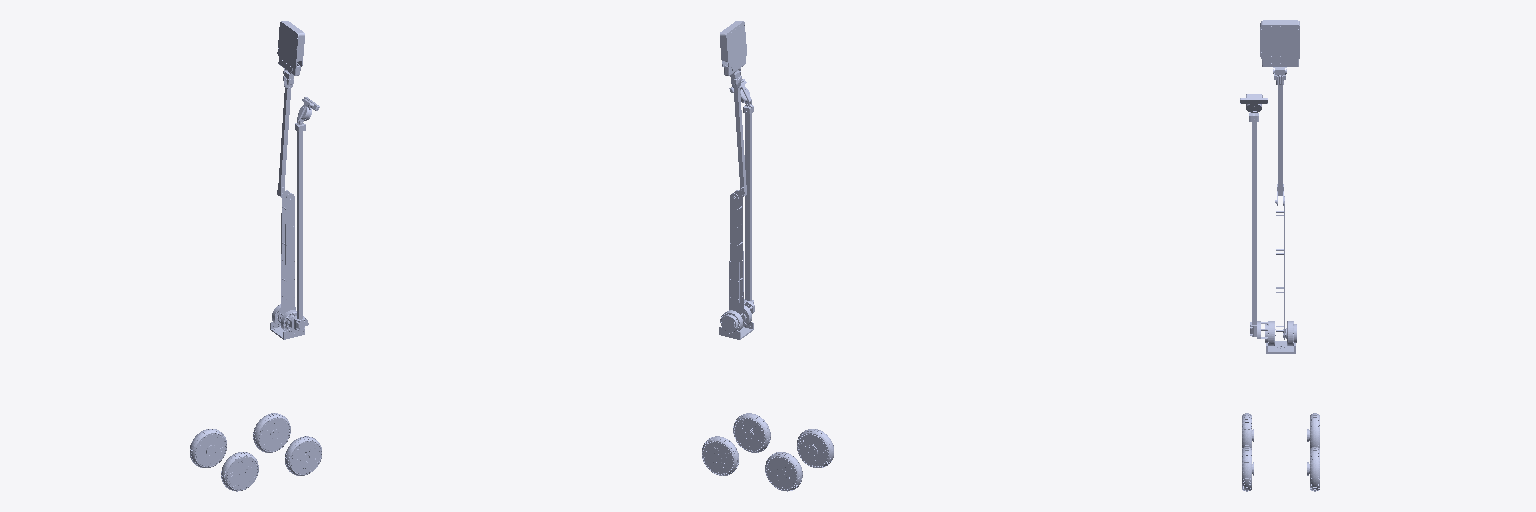
The robot description file, URDF, robot "Covid_Bot_URDF":
<?xml version="1.0" encoding="utf-8"?>
<!-- This URDF was automatically created by SolidWorks to URDF Exporter! Originally created by [author] ([email redacted]) 
     Commit Version: 1.5.1-0-g916b5db  Build Version: 1.5.7152.31018
     For more information, please see http://wiki.ros.org/sw_urdf_exporter -->
<robot
  name="Covid_Bot_URDF">
  <link
    name="base_link">
    <inertial>
      <origin
        xyz="0.059253 -3.5103E-05 0.27273"
        rpy="0 0 0" />
      <mass
        value="5.0138" />
      <inertia
        ixx="0.022066"
        ixy="-5.352E-07"
        ixz="-3.5279E-05"
        iyy="0.051738"
        iyz="2.1059E-07"
        izz="0.053855" />
    </inertial>
    <visual>
      <origin
        xyz="0 0 0"
        rpy="0 0 0" />
      <geometry>
        <mesh
          filename="meshes/base_link.STL" />
      </geometry>
      <material
        name="">
        <color
          rgba="1 1 1 1" />
      </material>
    </visual>
    <collision>
      <origin
        xyz="0 0 0"
        rpy="0 0 0" />
      <geometry>
        <mesh
          filename="meshes/base_link.STL" />
      </geometry>
    </collision>
  </link>
  <link
    name="Waist_Link">
    <inertial>
      <origin
        xyz="0.018764 -0.02698 0.23455"
        rpy="0 0 0" />
      <mass
        value="0.85886" />
      <inertia
        ixx="0.0075486"
        ixy="-8.8132E-05"
        ixz="-1.1514E-05"
        iyy="0.0076505"
        iyz="-6.4529E-06"
        izz="0.00051864" />
    </inertial>
    <visual>
      <origin
        xyz="0 0 0"
        rpy="0 0 0" />
      <geometry>
        <mesh
          filename="meshes/Waist_Link.STL" />
      </geometry>
      <material
        name="">
        <color
          rgba="0.79216 0.81961 0.93333 1" />
      </material>
    </visual>
    <collision>
      <origin
        xyz="0 0 0"
        rpy="0 0 0" />
      <geometry>
        <mesh
          filename="meshes/Waist_Link.STL" />
      </geometry>
    </collision>
  </link>
  <joint
    name="Waist_Joint"
    type="revolute">
    <origin
      xyz="0.14905 0 0.59309"
      rpy="0 0 -0.5236" />
    <parent
      link="base_link" />
    <child
      link="Waist_Link" />
    <axis
      xyz="0 0 -1" />
    <limit
      lower="-3.1416"
      upper="3.1416"
      effort="15"
      velocity="65" />
  </joint>
  <link
    name="Shoulder_Link">
    <inertial>
      <origin
        xyz="4.66842554336377E-08 0.265693440313095 -0.0148861722444303"
        rpy="0 0 0" />
      <mass
        value="0.167183733473788" />
      <inertia
        ixx="0.00432114063992436"
        ixy="4.30760476432212E-12"
        ixz="1.58852641360613E-15"
        iyy="2.81708148404114E-05"
        iyz="2.44707368818259E-16"
        izz="0.00434846549615947" />
    </inertial>
    <visual>
      <origin
        xyz="0 0 0"
        rpy="0 0 0" />
      <geometry>
        <mesh
          filename="meshes/Shoulder_Link.STL" />
      </geometry>
      <material
        name="">
        <color
          rgba="0.792156862745098 0.819607843137255 0.933333333333333 1" />
      </material>
    </visual>
    <collision>
      <origin
        xyz="0 0 0"
        rpy="0 0 0" />
      <geometry>
        <mesh
          filename="meshes/Shoulder_Link.STL" />
      </geometry>
    </collision>
  </link>
  <joint
    name="Shoulder_Joint"
    type="revolute">
    <origin
      xyz="0.0087383 -0.015135 0.064525"
      rpy="1.5708 0.00097668 0.5236" />
    <parent
      link="Waist_Link" />
    <child
      link="Shoulder_Link" />
    <axis
      xyz="0 0 1" />
    <limit
      lower="-1.5708"
      upper="1.5708"
      effort="15"
      velocity="65" />
  </joint>
  <link
    name="Elbow_Link">
    <inertial>
      <origin
        xyz="0.351846192147882 0.0339993945889256 -0.00950589374198291"
        rpy="0 0 0" />
      <mass
        value="0.120438255580755" />
      <inertia
        ixx="2.10110877179701E-05"
        ixy="-2.11476741427197E-06"
        ixz="-9.1744583661404E-09"
        iyy="0.00117217890712797"
        iyz="8.89017312883176E-11"
        izz="0.00116979199301081" />
    </inertial>
    <visual>
      <origin
        xyz="0 0 0"
        rpy="0 0 0" />
      <geometry>
        <mesh
          filename="meshes/Elbow_Link.STL" />
      </geometry>
      <material
        name="">
        <color
          rgba="0.792156862745098 0.819607843137255 0.933333333333333 1" />
      </material>
    </visual>
    <collision>
      <origin
        xyz="0 0 0"
        rpy="0 0 0" />
      <geometry>
        <mesh
          filename="meshes/Elbow_Link.STL" />
      </geometry>
    </collision>
  </link>
  <joint
    name="Elbow_Joint"
    type="revolute">
    <origin
      xyz="0 0.55 -0.004675"
      rpy="0 0 1.5008" />
    <parent
      link="Shoulder_Link" />
    <child
      link="Elbow_Link" />
    <axis
      xyz="0 0 -1" />
    <limit
      lower="0"
      upper="3.054326"
      effort="15"
      velocity="65" />
  </joint>
  <link
    name="Wrist_Link">
    <inertial>
      <origin
        xyz="0.00783108623348705 0.115608036588963 0.0267381749860593"
        rpy="0 0 0" />
      <mass
        value="0.299386885230771" />
      <inertia
        ixx="0.00117584897204787"
        ixy="-4.2904322653638E-05"
        ixz="-6.03456037533926E-09"
        iyy="0.000686640201384165"
        iyz="-6.93011784614871E-08"
        izz="0.000517039377850733" />
    </inertial>
    <visual>
      <origin
        xyz="0 0 0"
        rpy="0 0 0" />
      <geometry>
        <mesh
          filename="meshes/Wrist_Link.STL" />
      </geometry>
      <material
        name="">
        <color
          rgba="0.792156862745098 0.819607843137255 0.933333333333333 1" />
      </material>
    </visual>
    <collision>
      <origin
        xyz="0 0 0"
        rpy="0 0 0" />
      <geometry>
        <mesh
          filename="meshes/Wrist_Link.STL" />
      </geometry>
    </collision>
  </link>
  <joint
    name="Wrist_Joint"
    type="revolute">
    <origin
      xyz="0.54315 0.033455 -0.037125"
      rpy="0 0 -1.4998" />
    <parent
      link="Elbow_Link" />
    <child
      link="Wrist_Link" />
    <axis
      xyz="0 0 1" />
    <limit
      lower="-1.5708"
      upper="1.5708"
      effort="1.66"
      velocity="6.5" />
  </joint>
  <link
    name="Wheel_FL_Link">
    <inertial>
      <origin
        xyz="-3.20772142820003E-07 3.20764833999787E-07 -0.000428329520177934"
        rpy="0 0 0" />
      <mass
        value="0.813834380524578" />
      <inertia
        ixx="0.00141713792479969"
        ixy="-4.7255246614082E-09"
        ixz="5.09694171959109E-09"
        iyy="0.00141713792483397"
        iyz="-5.09700208363254E-09"
        izz="0.00261834079951068" />
    </inertial>
    <visual>
      <origin
        xyz="0 0 0"
        rpy="0 0 0" />
      <geometry>
        <mesh
          filename="meshes/Wheel_FL_Link.STL" />
      </geometry>
      <material
        name="">
        <color
          rgba="0.792156862745098 0.819607843137255 0.933333333333333 1" />
      </material>
    </visual>
    <collision>
      <origin
        xyz="0 0 0"
        rpy="0 0 0" />
      <geometry>
        <mesh
          filename="meshes/Wheel_FL_Link.STL" />
      </geometry>
    </collision>
  </link>
  <joint
    name="Wheel_FL_Joint"
    type="continuous">
    <origin
      xyz="0.14923 0.1285 0.093111"
      rpy="1.5708 0.61087 3.1416" />
    <parent
      link="base_link" />
    <child
      link="Wheel_FL_Link" />
    <axis
      xyz="0 0 1" />
    <limit
      effort="15.3"
      velocity="8.3" />
  </joint>
  <link
    name="Wheel_FR_Link">
    <inertial>
      <origin
        xyz="-3.20769391090603E-07 3.20789198648974E-07 -0.000428329520562126"
        rpy="0 0 0" />
      <mass
        value="0.813834380664065" />
      <inertia
        ixx="0.00141713792516499"
        ixy="-4.72572534826032E-09"
        ixz="5.09696347704616E-09"
        iyy="0.00141713792503021"
        iyz="-5.09685770642578E-09"
        izz="0.00261834080005719" />
    </inertial>
    <visual>
      <origin
        xyz="0 0 0"
        rpy="0 0 0" />
      <geometry>
        <mesh
          filename="meshes/Wheel_FR_Link.STL" />
      </geometry>
      <material
        name="">
        <color
          rgba="0.792156862745098 0.819607843137255 0.933333333333333 1" />
      </material>
    </visual>
    <collision>
      <origin
        xyz="0 0 0"
        rpy="0 0 0" />
      <geometry>
        <mesh
          filename="meshes/Wheel_FR_Link.STL" />
      </geometry>
    </collision>
  </link>
  <joint
    name="Wheel_FR_Joint"
    type="continuous">
    <origin
      xyz="0.14923 -0.1285 0.093111"
      rpy="-1.5708 -0.94174 -3.1416" />
    <parent
      link="base_link" />
    <child
      link="Wheel_FR_Link" />
    <axis
      xyz="0 0 1" />
    <limit
      effort="15.3"
      velocity="8.3" />
  </joint>
  <link
    name="Wheel_BL_Link">
    <inertial>
      <origin
        xyz="-3.20778043225167E-07 3.20775929818495E-07 -0.000428329520870602"
        rpy="0 0 0" />
      <mass
        value="0.813834380645934" />
      <inertia
        ixx="0.00141713792485704"
        ixy="-4.7255129068135E-09"
        ixz="5.09690483659598E-09"
        iyy="0.00141713792527423"
        iyz="-5.09690576937866E-09"
        izz="0.0026183407999996" />
    </inertial>
    <visual>
      <origin
        xyz="0 0 0"
        rpy="0 0 0" />
      <geometry>
        <mesh
          filename="meshes/Wheel_BL_Link.STL" />
      </geometry>
      <material
        name="">
        <color
          rgba="0.792156862745098 0.819607843137255 0.933333333333333 1" />
      </material>
    </visual>
    <collision>
      <origin
        xyz="0 0 0"
        rpy="0 0 0" />
      <geometry>
        <mesh
          filename="meshes/Wheel_BL_Link.STL" />
      </geometry>
    </collision>
  </link>
  <joint
    name="Wheel_BL_Joint"
    type="continuous">
    <origin
      xyz="-0.14923 0.1285 0.093122"
      rpy="-1.5708 -0.94166 0" />
    <parent
      link="base_link" />
    <child
      link="Wheel_BL_Link" />
    <axis
      xyz="0 0 1" />
    <limit
      effort="15.3"
      velocity="8.3" />
  </joint>
  <link
    name="Wheel_BR_Link">
    <inertial>
      <origin
        xyz="-3.2076078543275E-07 3.20775953327468E-07 -0.000428329520502591"
        rpy="0 0 0" />
      <mass
        value="0.813834380613537" />
      <inertia
        ixx="0.00141713792459929"
        ixy="-4.72554752403362E-09"
        ixz="5.09700189748719E-09"
        iyy="0.00141713792539451"
        iyz="-5.09691184469431E-09"
        izz="0.00261834079986221" />
    </inertial>
    <visual>
      <origin
        xyz="0 0 0"
        rpy="0 0 0" />
      <geometry>
        <mesh
          filename="meshes/Wheel_BR_Link.STL" />
      </geometry>
      <material
        name="">
        <color
          rgba="0.792156862745098 0.819607843137255 0.933333333333333 1" />
      </material>
    </visual>
    <collision>
      <origin
        xyz="0 0 0"
        rpy="0 0 0" />
      <geometry>
        <mesh
          filename="meshes/Wheel_BR_Link.STL" />
      </geometry>
    </collision>
  </link>
  <joint
    name="Wheel_BR_Joint"
    type="continuous">
    <origin
      xyz="-0.14923 -0.1285 0.093122"
      rpy="1.5708 0.61095 0" />
    <parent
      link="base_link" />
    <child
      link="Wheel_BR_Link" />
    <axis
      xyz="0 0 1" />
    <limit
      effort="15.3"
      velocity="8.3" />
  </joint>
</robot>

--- Facts derived from the render (not from the file) ---
The picture shows the robot from 3 angles, left to right: view 1: azimuth 30°, elevation 25°; view 2: azimuth 150°, elevation 25°; view 3: azimuth 270°, elevation 25°; orthographic projection.
Model Covid_Bot_URDF with 9 links and 8 joints (4 revolute, 4 continuous), rooted at base_link, posed every joint at zero.
Visible links, largest first — view 1: Waist_Link, Shoulder_Link, Wrist_Link, Wheel_FL_Link, Wheel_BR_Link, Wheel_BL_Link, Wheel_FR_Link, Elbow_Link; view 2: Waist_Link, Shoulder_Link, Wrist_Link, Wheel_FR_Link, Wheel_BL_Link, Wheel_FL_Link, Wheel_BR_Link, Elbow_Link; view 3: Waist_Link, Wrist_Link, Elbow_Link.
Boxes of the visible links, <box> form: Waist_Link: <box>270,97,319,339</box>; Shoulder_Link: <box>280,190,295,318</box>; Wrist_Link: <box>277,21,304,79</box>; Wheel_FL_Link: <box>253,413,290,452</box>; Wheel_BR_Link: <box>221,452,258,491</box>; Wheel_BL_Link: <box>190,429,226,467</box>; Wheel_FR_Link: <box>285,436,321,475</box>; Elbow_Link: <box>277,71,293,199</box>; Waist_Link: <box>719,79,754,339</box>; Shoulder_Link: <box>729,190,743,320</box>; Wrist_Link: <box>720,21,746,79</box>; Wheel_FR_Link: <box>733,413,770,452</box>; Wheel_BL_Link: <box>765,452,802,491</box>; Wheel_FL_Link: <box>702,436,738,475</box>; Wheel_BR_Link: <box>797,429,833,467</box>; Elbow_Link: <box>731,70,746,198</box>; Waist_Link: <box>1240,94,1296,353</box>; Wrist_Link: <box>1260,20,1299,67</box>; Elbow_Link: <box>1273,68,1286,205</box>.
Bounding box of the posed robot: 0.4682 × 0.3044 × 1.96 m (x, y, z).
Meshes: 9 distinct files referenced, 8 mesh visuals loaded (8 binary STL); not drawn: 1 (reference not matched to a file when rendering).